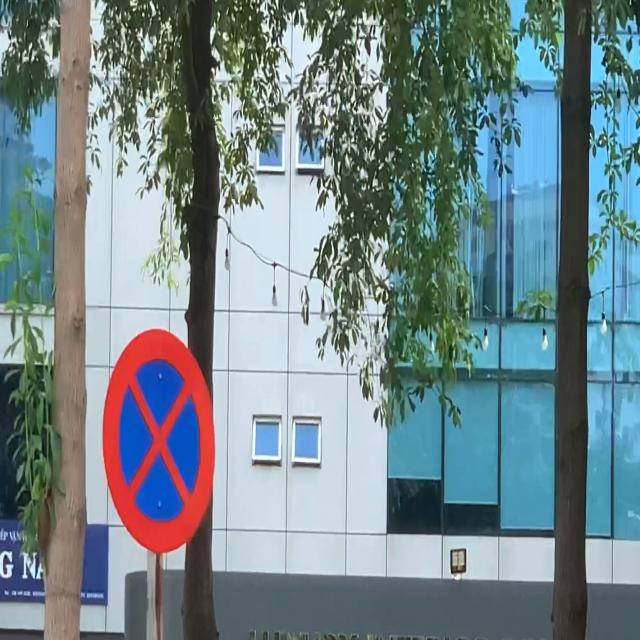Cam dung va do: (103, 328, 215, 554)
